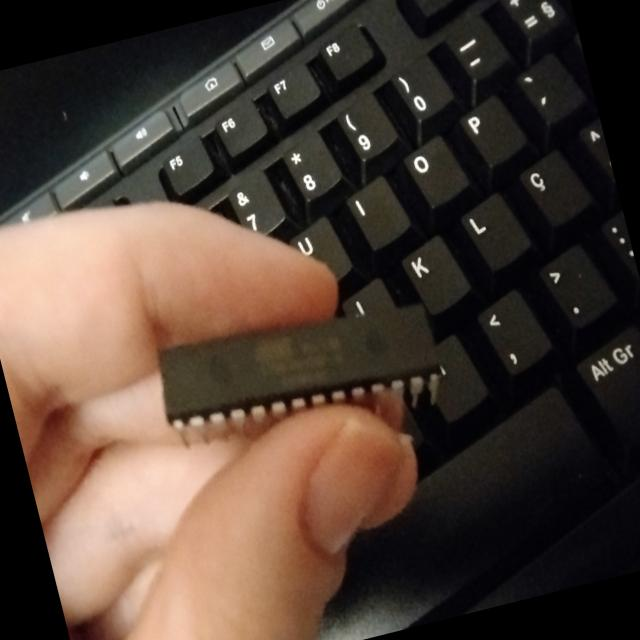atmega: (142, 272, 456, 474)
